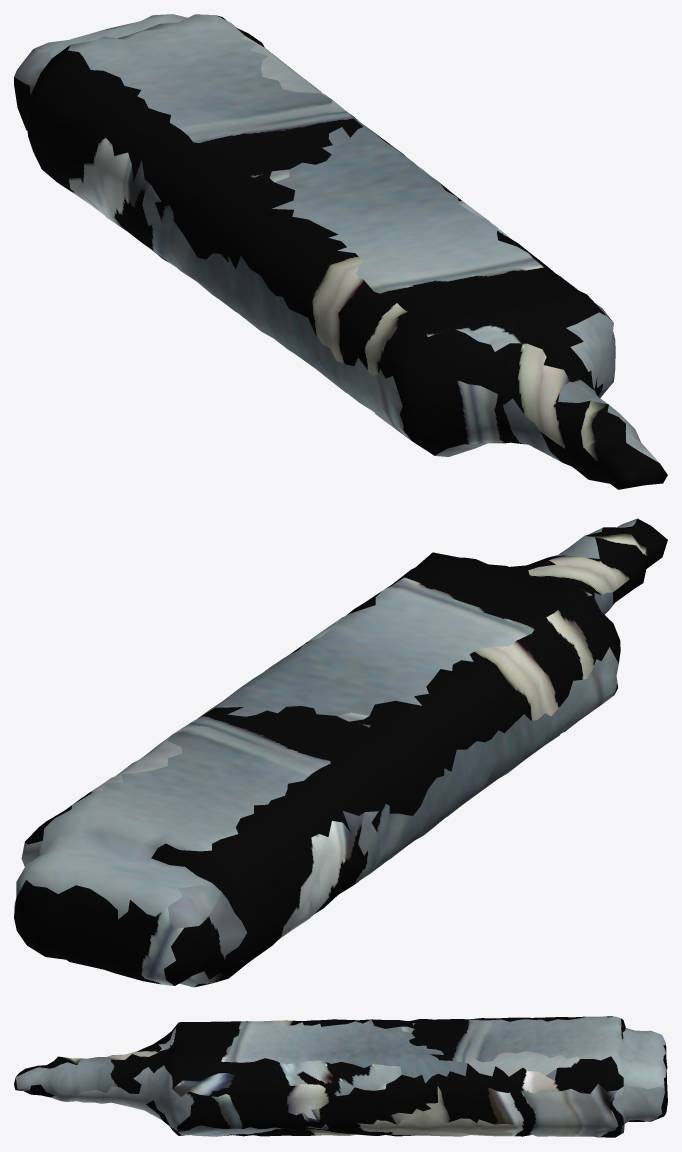
The model's file is scan_align.obj.
3 renders of one model, top to bottom at view 1: azimuth 30°, elevation 25°; view 2: azimuth 150°, elevation 25°; view 3: azimuth 270°, elevation 25°, orthographic. The views are drawn at different scales.
Bounding box in the file's own units: 0.0251 × 0.0153 × 0.108.
